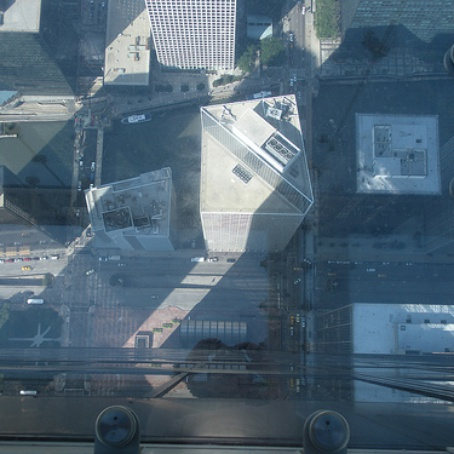building: (201, 90, 309, 250), (317, 110, 446, 235), (78, 170, 190, 265), (138, 1, 249, 80)
street: (10, 252, 447, 305)
